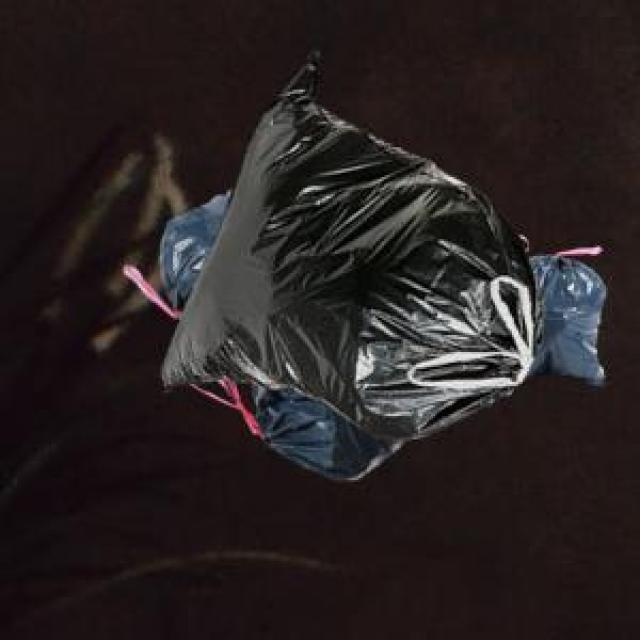waste: (162, 59, 606, 479)
